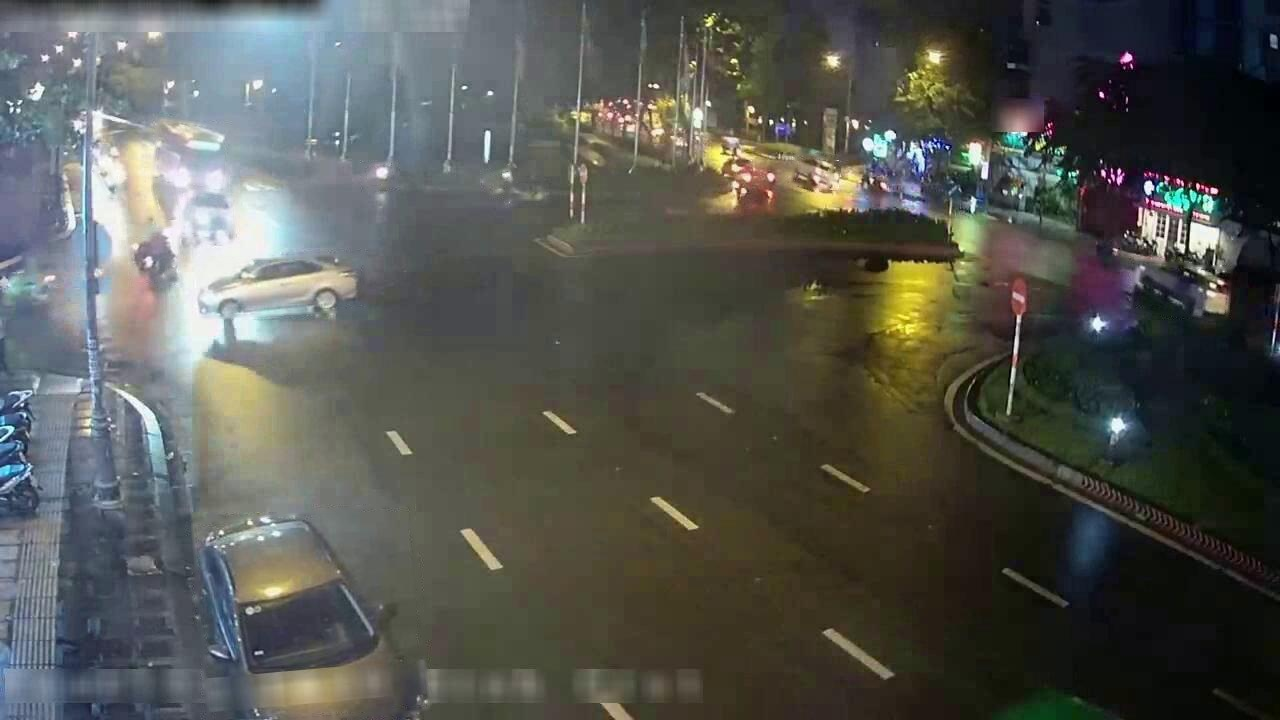Bus: (155, 120, 228, 193)
Car: (197, 515, 425, 719), (198, 255, 358, 318), (1137, 264, 1228, 316), (182, 193, 235, 243), (721, 157, 775, 188), (792, 163, 837, 193)
Motorcycle: (0, 461, 39, 514), (0, 409, 32, 442), (0, 426, 28, 456)
Motorcyclist: (132, 231, 177, 287), (152, 177, 181, 221), (365, 162, 395, 189), (508, 184, 546, 203), (485, 170, 513, 195), (99, 169, 117, 195)
Sign: (1010, 277, 1027, 317)
Traffic light: (864, 256, 889, 273)
